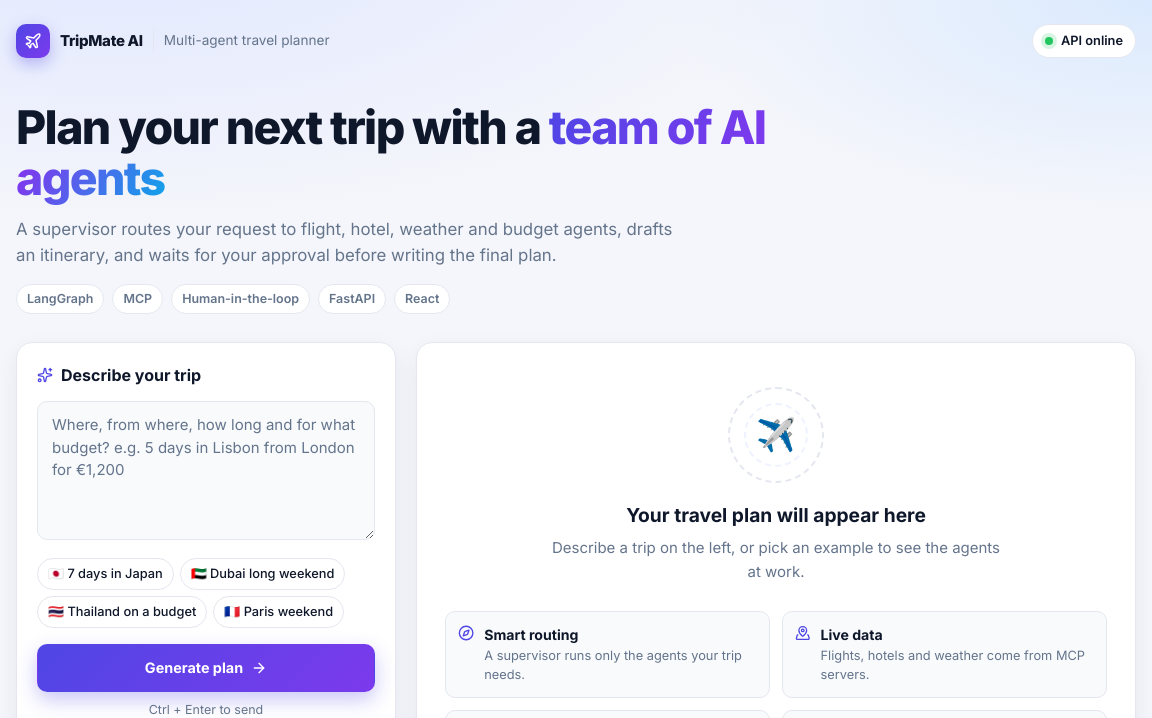
Test: App › surfaces an error event sent in the middle of the stream
The image size is (1152, 718).
Type "Plan a trip" into the text box named "Travel request" at x=206, y=471, box [37,401,375,540]
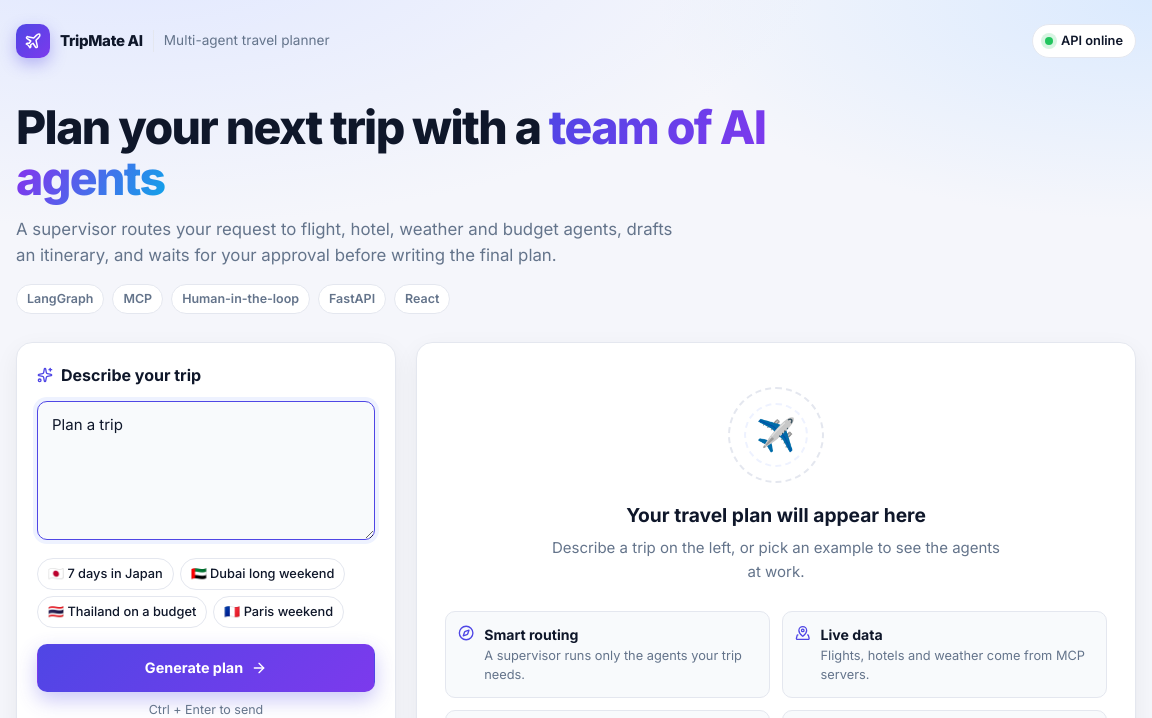
Click the button "Generate plan" at x=206, y=668, box [37,644,375,692]
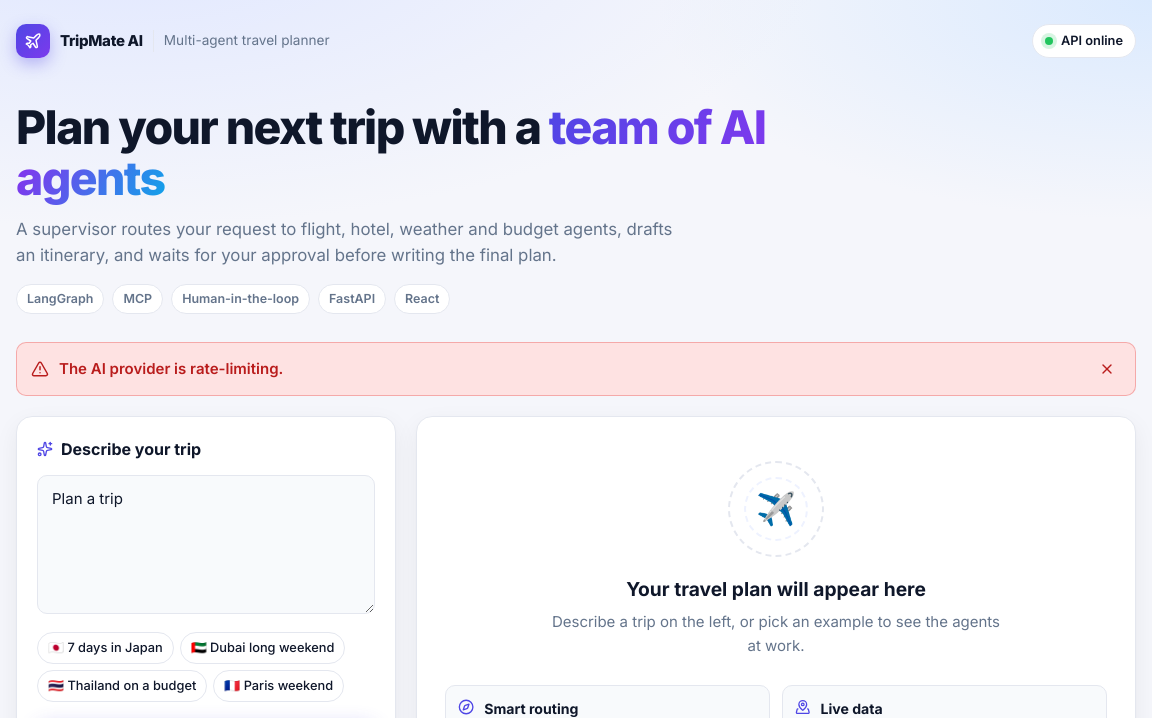
Result: the message "The AI provider is rate-limiting." is shown at [16,342,1136,396]
